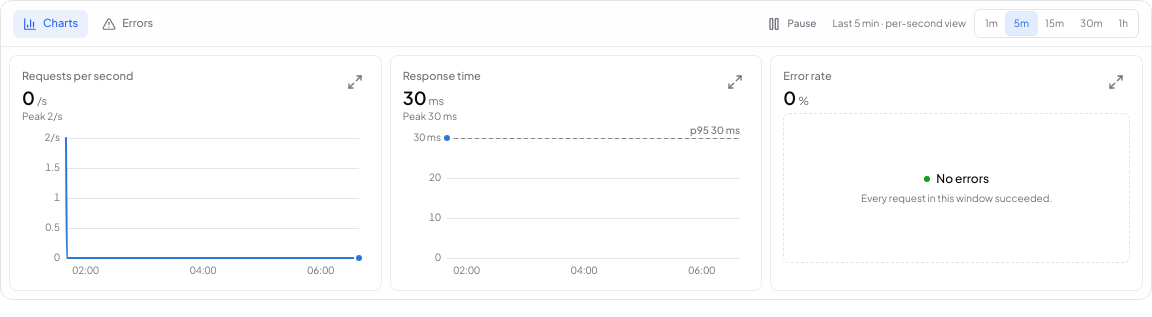
Test: OperationsChart focus mode › filters samples when the selected timeframe changes
Expected: the text "Last 5 min · per-second view" is shown, [832,16,966,31]
Click the button "1m" at (991, 24), box [977,12,1006,35]
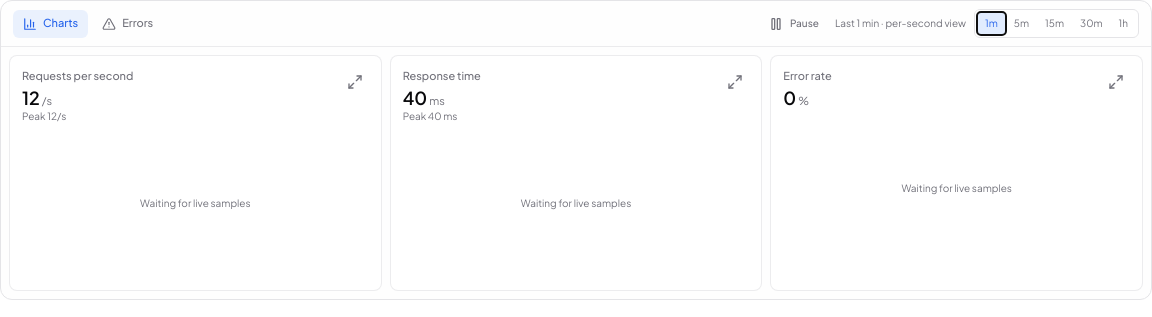
Expected: the text "Last 1 min · per-second view" is shown, [835,16,966,31]
Expected: the text "Waiting for live samples" is shown 3 times, [140,196,251,208]; [521,196,631,208]; [901,182,1012,194]
